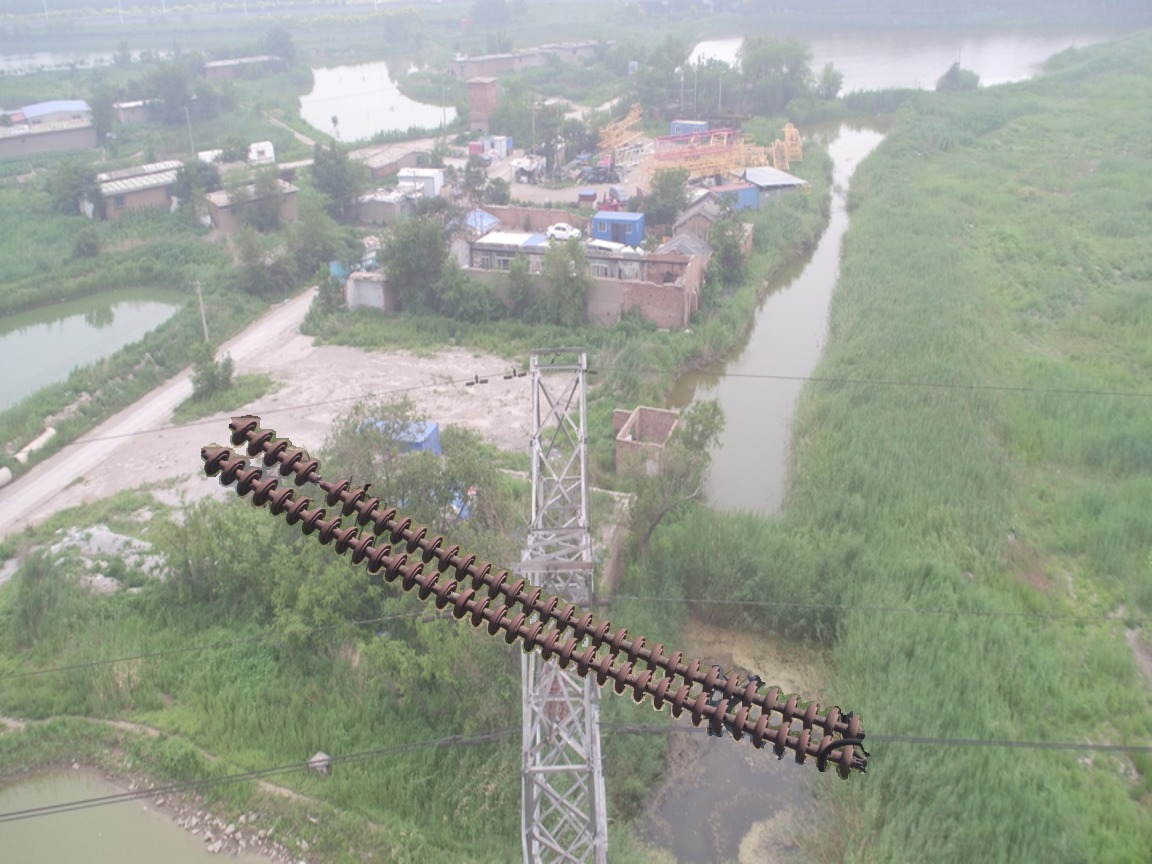defect: (294, 454, 348, 508)
